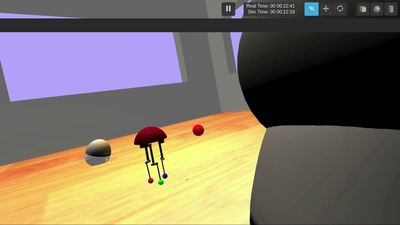mira_robot: (85, 138, 111, 166)
